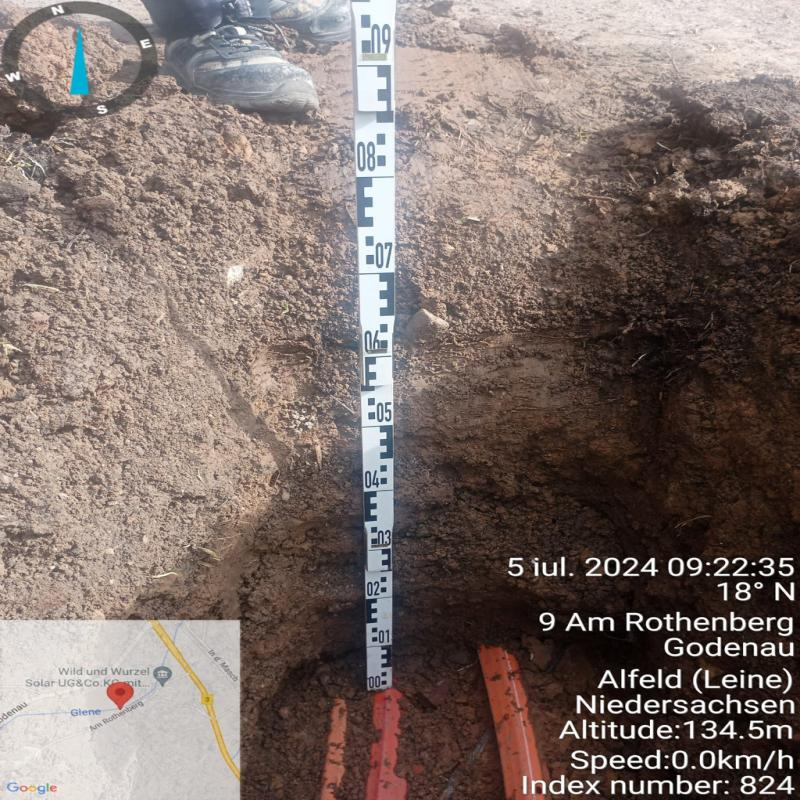Orang-Speednetrohrchen: (474, 647, 552, 798), (363, 690, 405, 800), (322, 695, 354, 799)
